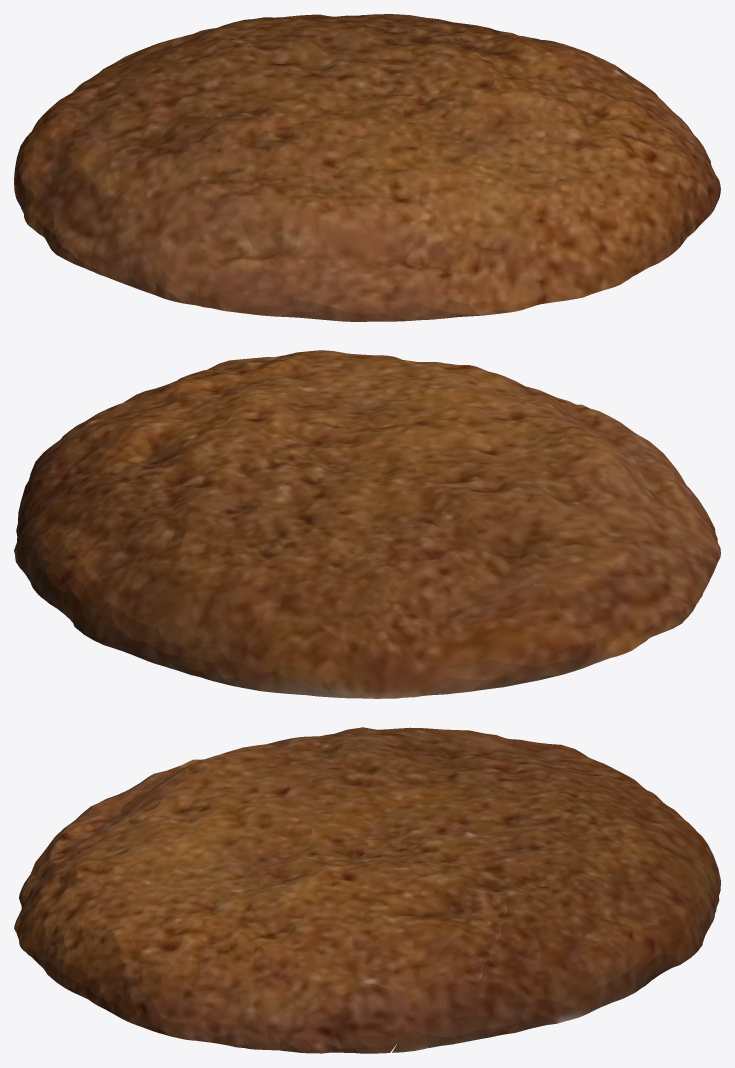
File: molasses-cookies.gltf
3 renders of one model, top to bottom at view 1: azimuth 30°, elevation 25°; view 2: azimuth 150°, elevation 25°; view 3: azimuth 270°, elevation 25°, orthographic. The views are drawn at different scales.
Bounding box in the file's own units: 0.3464 × 0.046 × 0.3414.
1 material, 1 textured.
